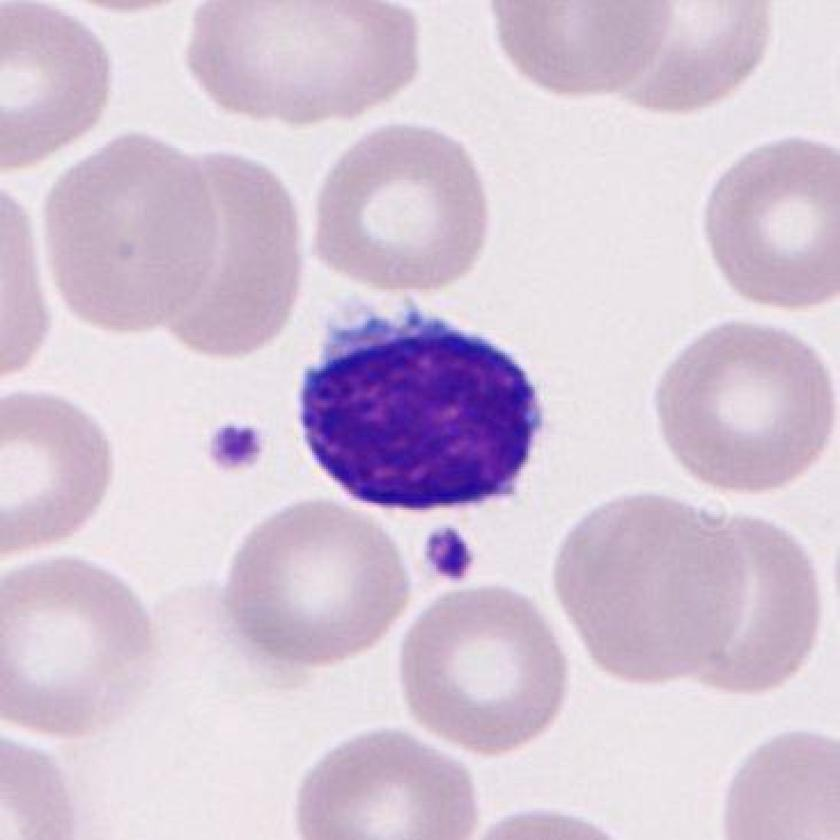lymphocyte: (284, 277, 557, 532)
platelets: (415, 519, 476, 592), (201, 419, 271, 471)
